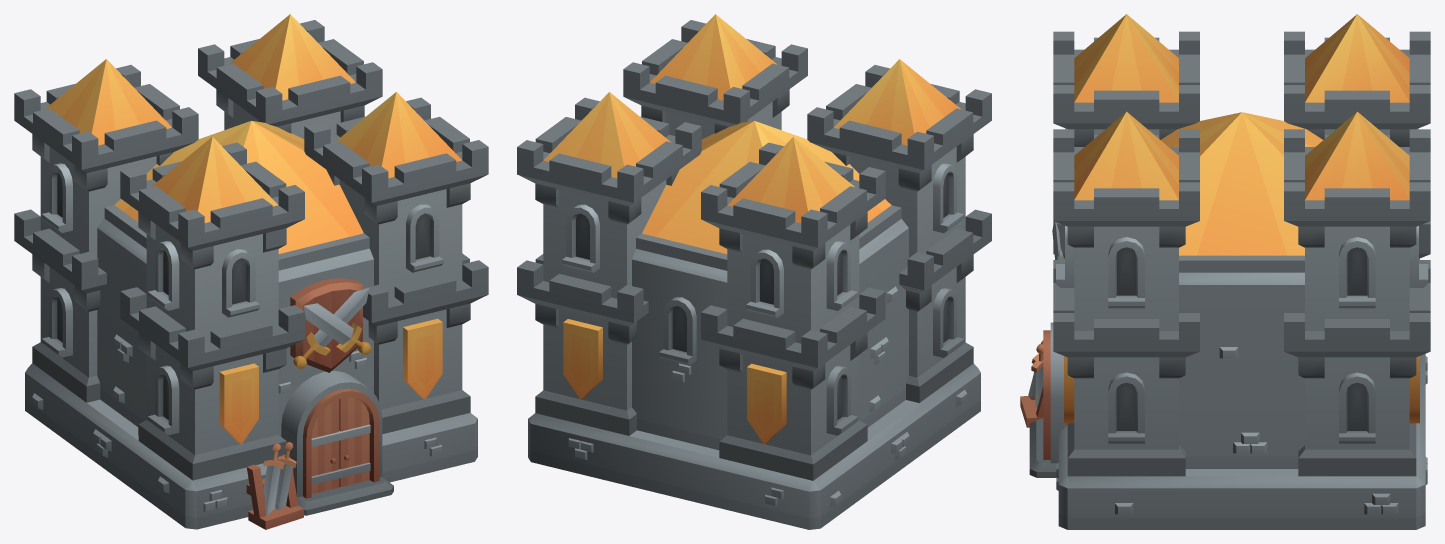
Rendered from barracks_yellow.glb.
3 renders of one model, left to right at view 1: azimuth 30°, elevation 25°; view 2: azimuth 150°, elevation 25°; view 3: azimuth 270°, elevation 25°, orthographic. The views are drawn at different scales.
Parts seen in each view (by area): view 1: barracks_yellow; view 2: barracks_yellow; view 3: barracks_yellow.
Part boxes in pixels (x1,y1,x2,y2): barracks_yellow: [14, 14, 488, 529]; barracks_yellow: [517, 14, 991, 529]; barracks_yellow: [1020, 14, 1430, 529].
Bounding box in the file's own units: 0.72 × 0.82 × 0.783.
1 material, 1 textured.
